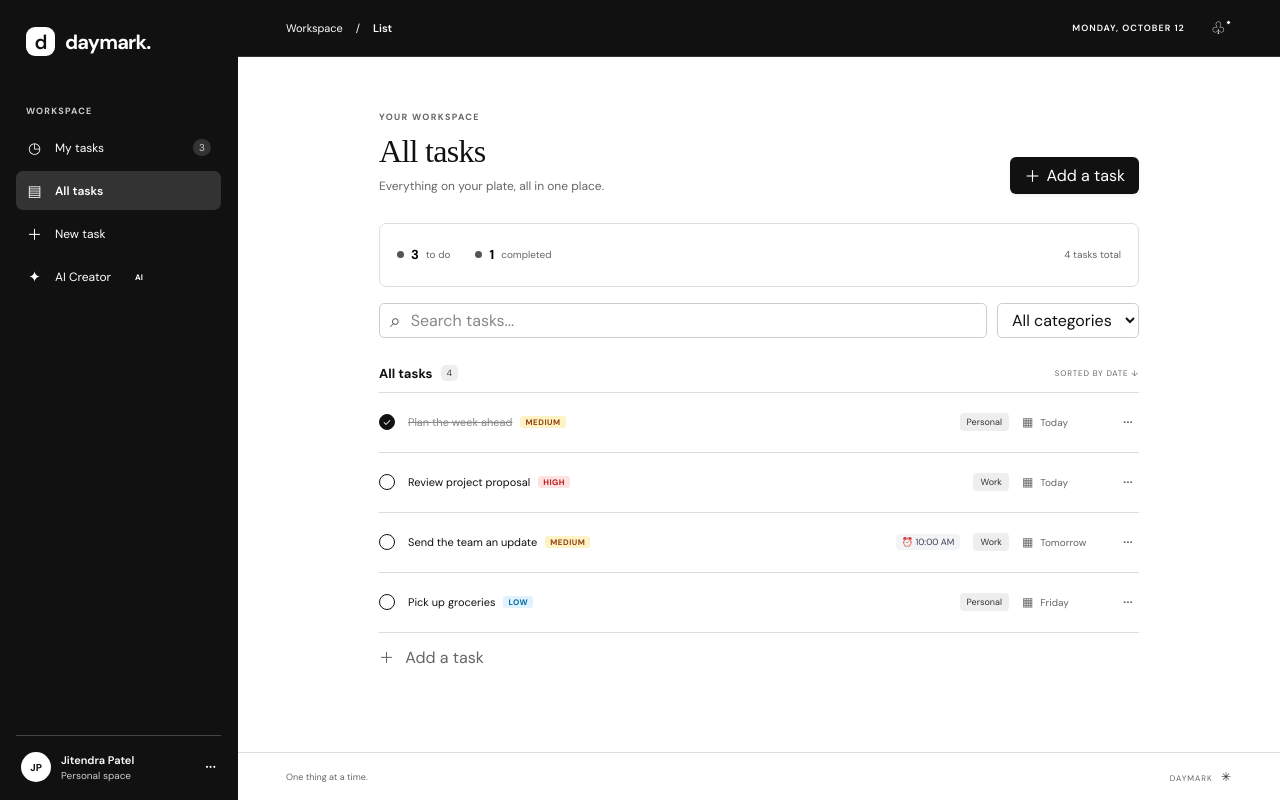
Test: task app › filters the all-tasks list by category
The image size is (1280, 800).
Select "Personal" in the dropdown named "Filter by category": (1068,320) x1=997 y1=303 x2=1139 y2=338
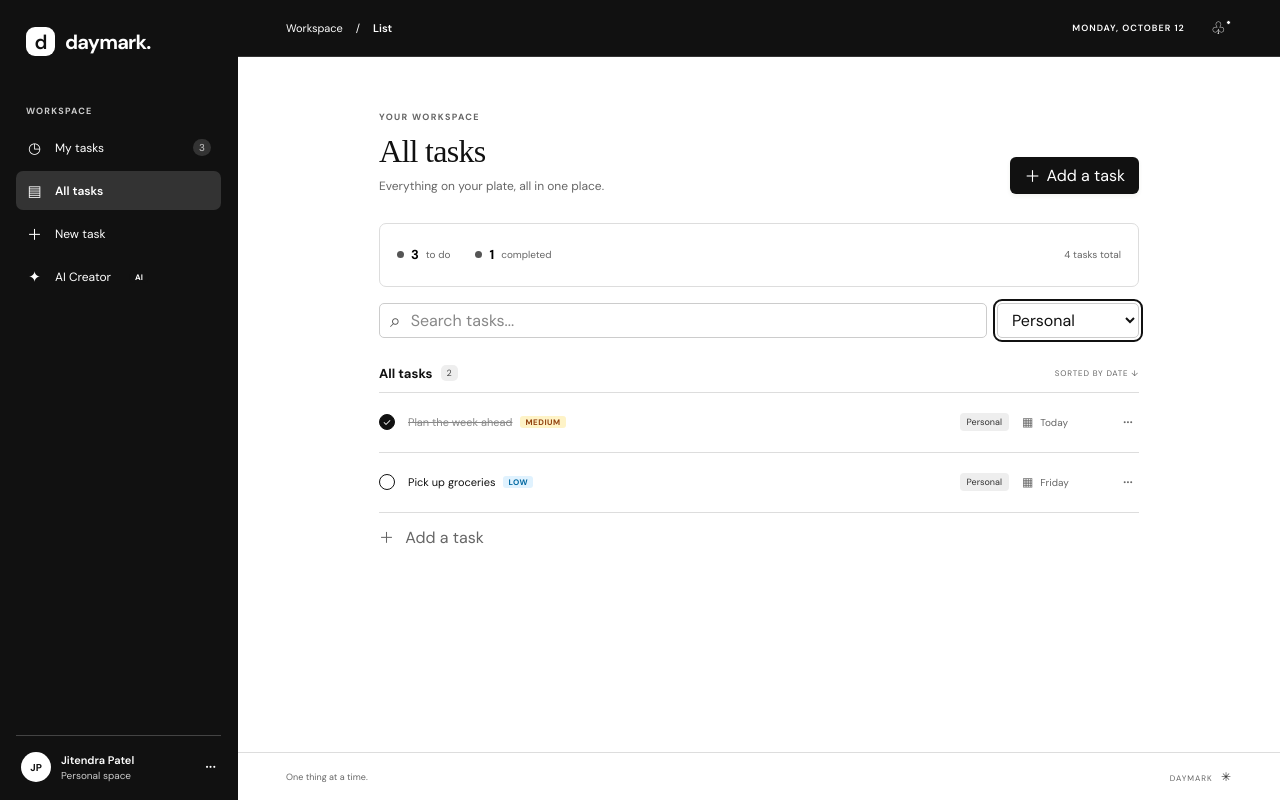
Expected: the text "Plan the week ahead" is shown, x1=408 y1=415 x2=512 y2=429
Now the text "Review project proposal" is gone
